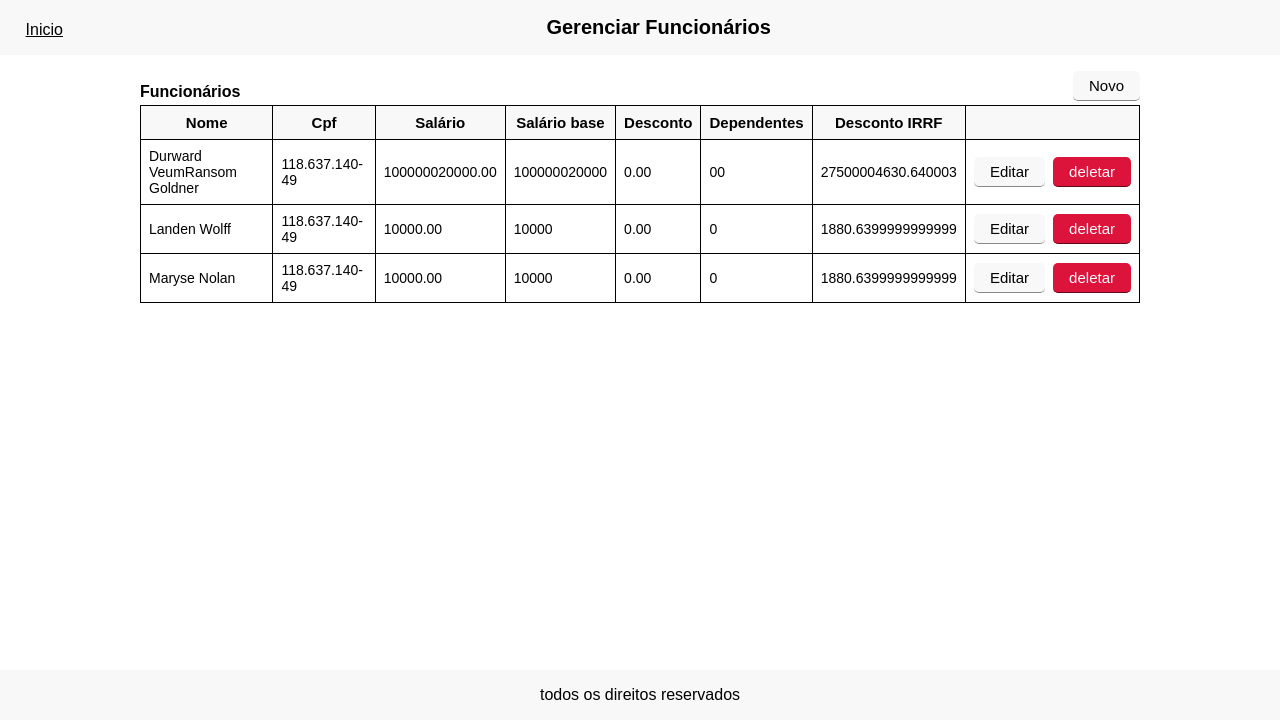
Test: Testa o processo de deletar um funcionário › Cadastrar um novo funcionário com sucesso
Click the 1st button "deletar" at point(1092, 172), box [1053,157,1131,187]
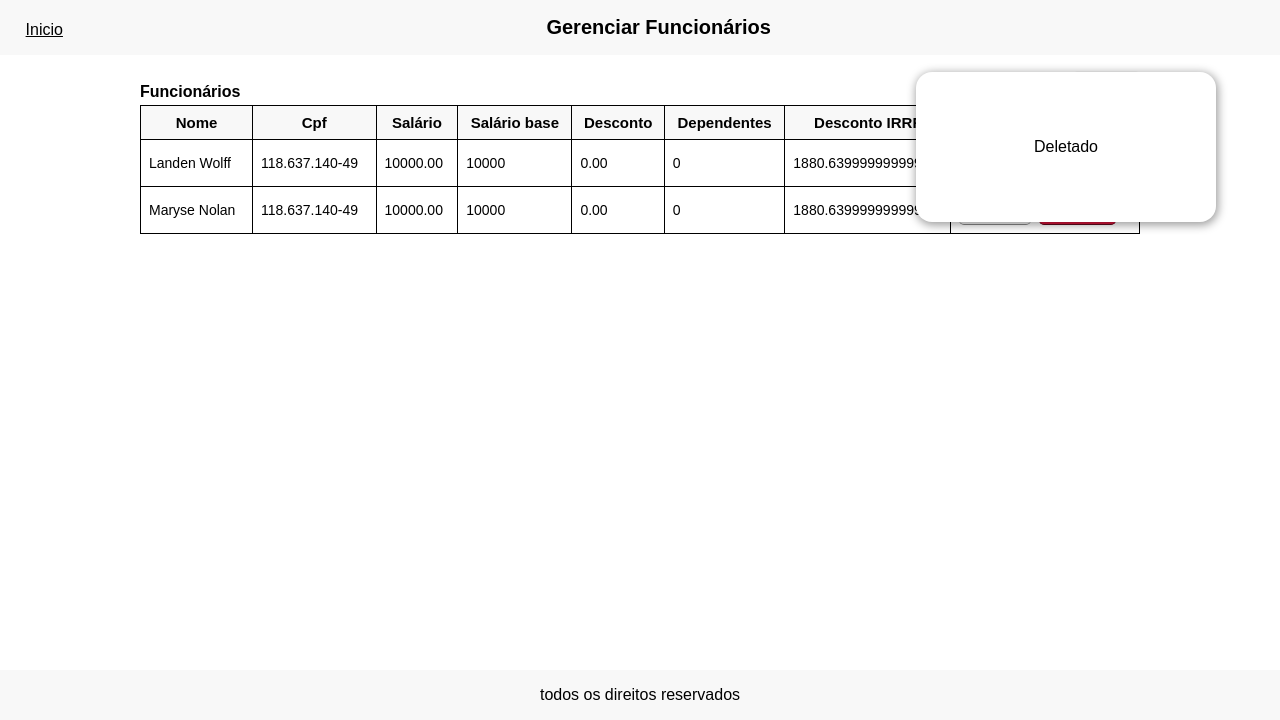
Check: the text "Deletado" is shown, box [916,72,1216,222]
